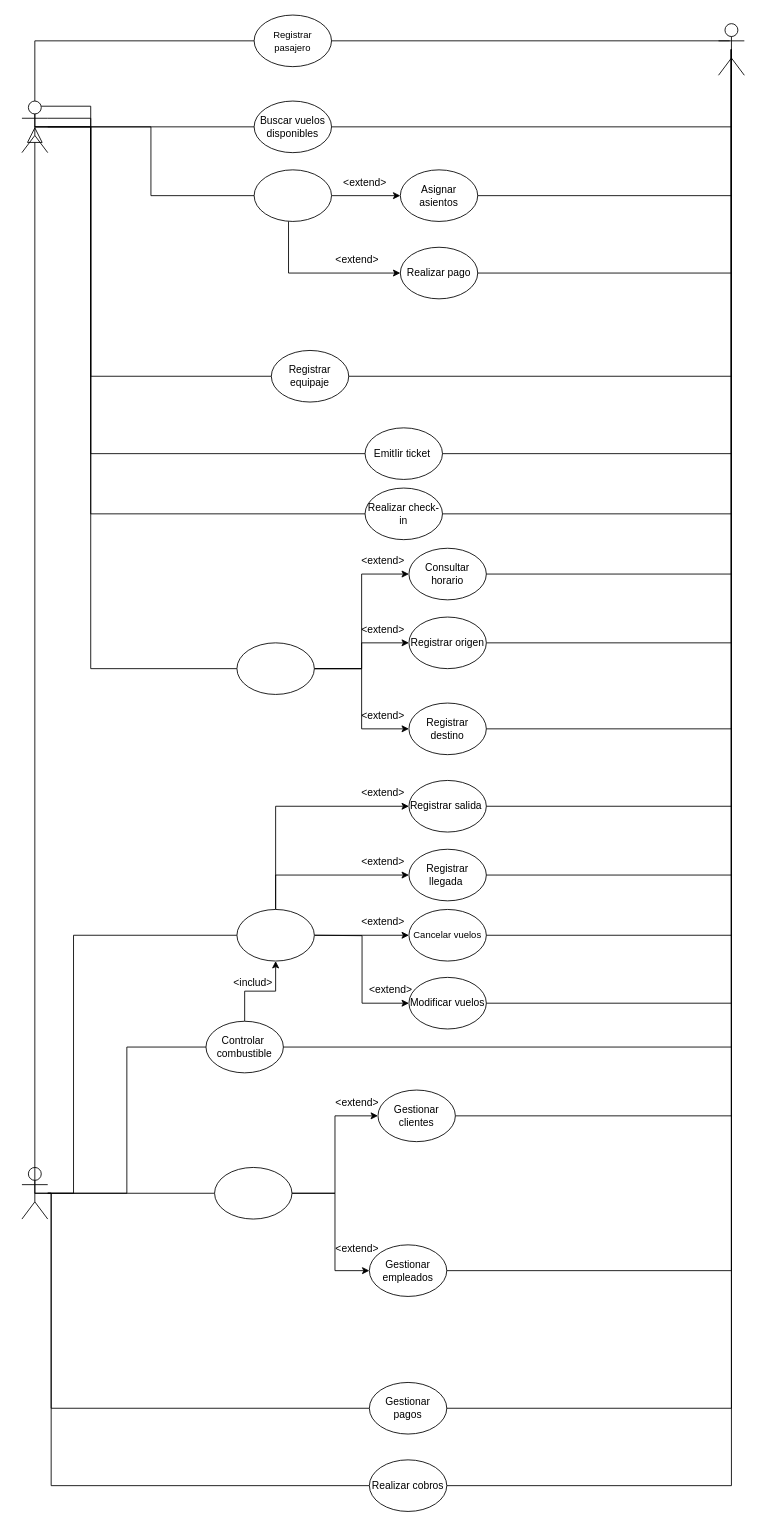
This 759x1527 diagram has some shape labels left out. The centre of each missing label's shape, as x and y in pixels:
"Admin" belongs at [34,1193].
"BD" belongs at [731,49].
"Consultar informacion" belongs at [253,1193].
"Pasajero" belongs at [34,126].
"Registrar aeropuertos" belongs at [275,668].
"Registrar aviones" belongs at [275,935].
"Reservar pasajes" belongs at [292,195].
